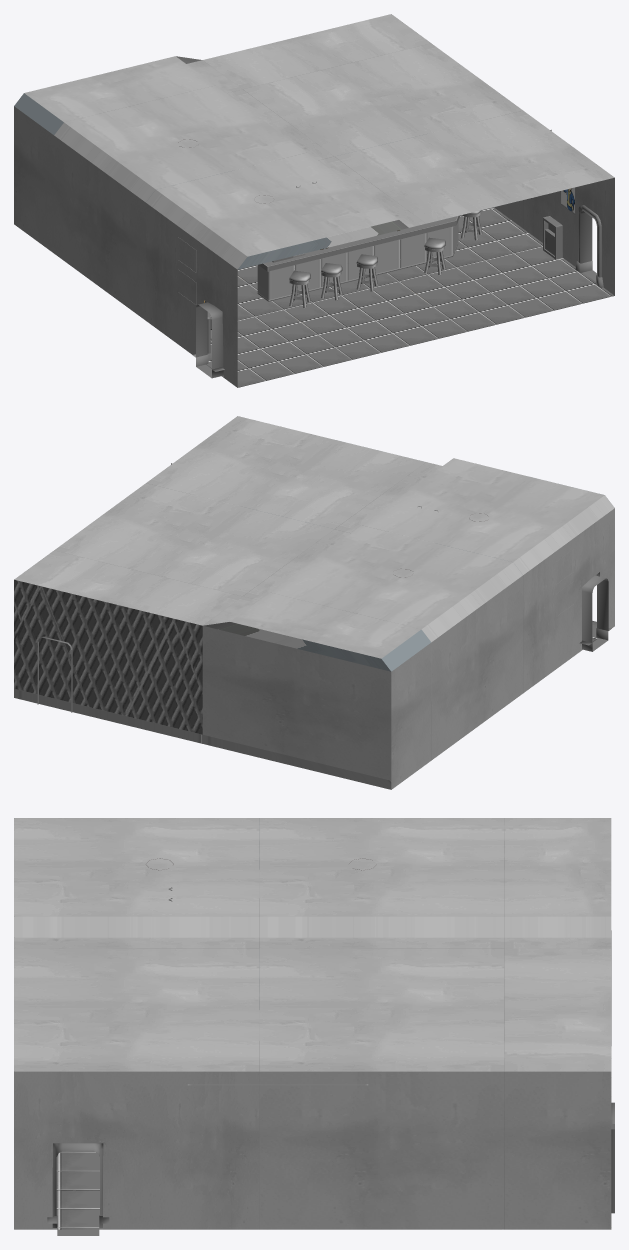
Rendered from MSH_Bar_room_L2_R2_optimized.fbx.
The picture shows the model from 3 angles, top to bottom: view 1: azimuth 30°, elevation 25°; view 2: azimuth 150°, elevation 25°; view 3: azimuth 270°, elevation 25°; orthographic projection. The views are drawn at different scales.
Parts seen in each view (by area): view 1: lightmap0, lightmap2, lightmap-1; view 2: lightmap0, lightmap-1; view 3: lightmap0, lightmap2, lightmap-1.
Boxes of the visible parts, left/top/right/bottom form: lightmap0: left=14, top=14, right=614, bottom=387; lightmap2: left=178, top=129, right=575, bottom=353; lightmap-1: left=196, top=211, right=596, bottom=378; lightmap0: left=14, top=416, right=614, bottom=789; lightmap-1: left=582, top=575, right=608, bottom=651; lightmap0: left=14, top=818, right=611, bottom=1229; lightmap2: left=146, top=858, right=614, bottom=1213; lightmap-1: left=56, top=1143, right=99, bottom=1235.
Size of the model in its own units: 20.61 by 6.42 by 20.24.
